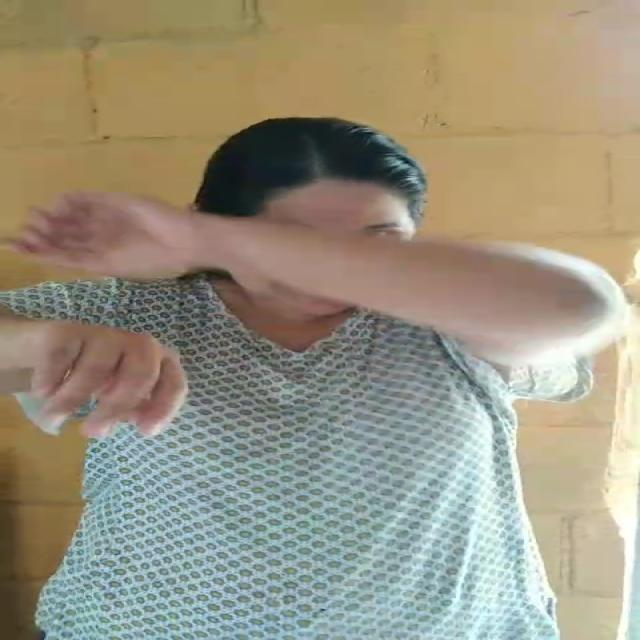7_mano_rostro: (0, 186, 441, 301)
